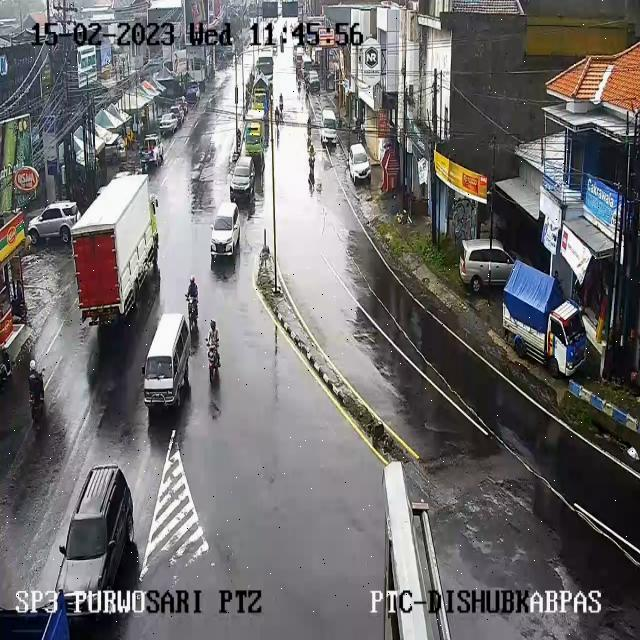Car: (51, 462, 136, 618), (143, 313, 192, 409), (456, 238, 512, 294), (27, 199, 81, 244), (209, 202, 239, 256), (229, 157, 256, 199), (139, 134, 164, 170), (348, 143, 370, 183), (320, 107, 338, 145), (272, 15, 294, 40), (104, 137, 123, 165), (142, 56, 167, 77), (159, 113, 179, 135), (286, 19, 301, 43), (236, 27, 251, 50), (217, 48, 234, 68), (185, 84, 201, 104), (252, 87, 268, 107), (306, 71, 320, 92), (295, 57, 304, 87), (175, 100, 188, 119), (249, 16, 260, 37), (326, 72, 337, 91), (114, 170, 134, 180), (259, 45, 273, 59), (302, 54, 312, 72), (294, 47, 304, 64), (314, 49, 323, 67), (208, 95, 217, 111), (249, 72, 255, 90), (268, 80, 273, 100), (270, 41, 279, 51)
Motorbike: (204, 319, 221, 384), (27, 362, 45, 417), (308, 154, 315, 174), (274, 106, 280, 123), (279, 94, 283, 112)
Truck: (68, 174, 158, 324), (504, 264, 586, 378), (242, 120, 265, 158), (256, 54, 274, 78)
